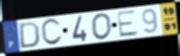4: (71, 15, 88, 44)
9: (141, 7, 160, 35)
C: (40, 17, 64, 47)
D: (19, 21, 42, 50)
E: (115, 9, 140, 39)
O: (90, 12, 114, 41)
